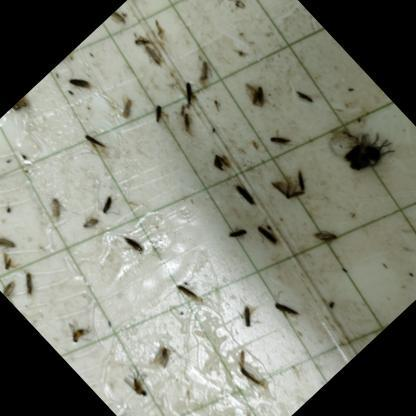prays_oleae: (223, 343, 275, 396), (266, 283, 317, 334), (265, 166, 311, 212), (232, 72, 276, 118), (118, 366, 160, 408), (108, 89, 148, 129), (253, 218, 290, 256), (307, 217, 345, 254), (172, 273, 208, 310), (38, 190, 74, 226), (144, 341, 178, 375), (121, 226, 154, 260), (61, 314, 94, 348), (141, 40, 174, 74), (73, 207, 106, 240), (187, 57, 219, 90), (0, 223, 25, 262), (262, 123, 292, 154), (82, 124, 112, 154), (127, 25, 156, 55), (232, 300, 261, 329), (228, 175, 257, 204), (62, 66, 91, 95), (290, 80, 318, 109), (146, 101, 174, 129), (110, 6, 136, 33), (178, 80, 204, 106), (21, 270, 47, 296), (292, 169, 317, 194), (10, 93, 35, 118), (227, 221, 252, 245), (0, 276, 21, 301), (96, 194, 119, 216), (55, 52, 76, 72), (116, 404, 150, 416), (0, 247, 17, 271), (216, 0, 243, 6)
